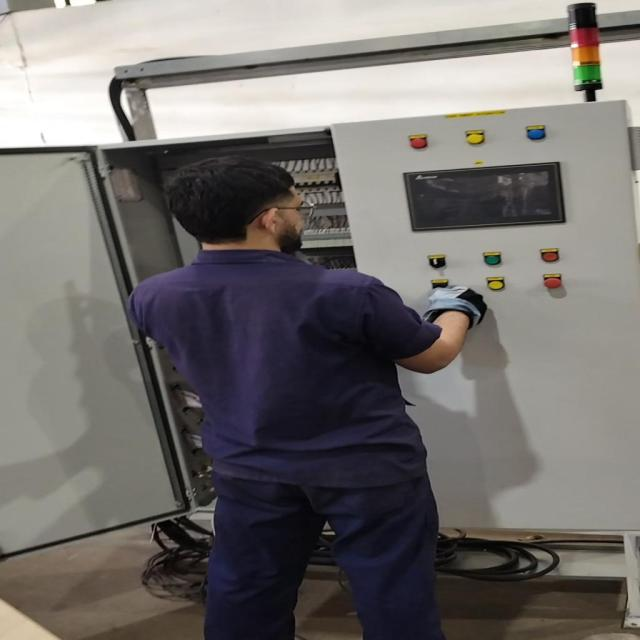Gloves-Detection: (426, 289, 494, 331)
